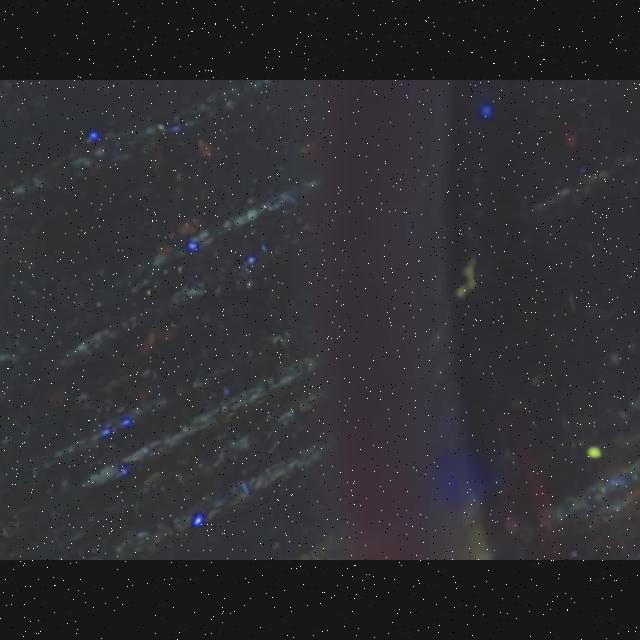Fibre: (456, 254, 482, 302)
microbeads: (586, 444, 602, 462)
